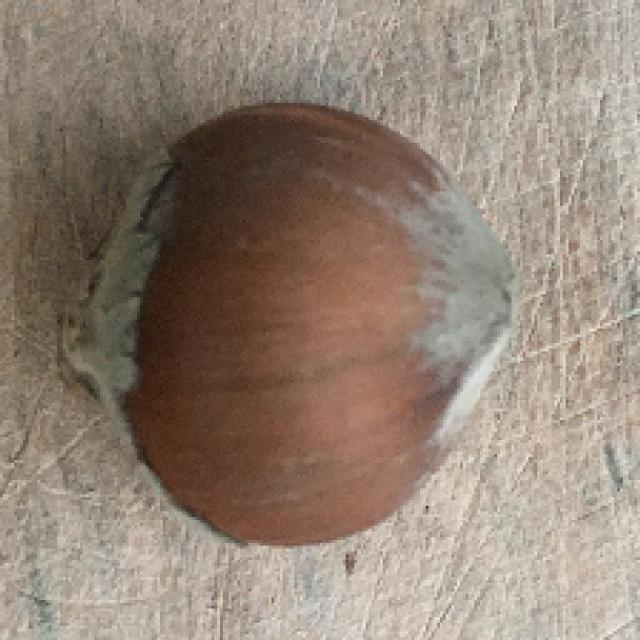damagedHazelnut: (79, 97, 518, 542)
